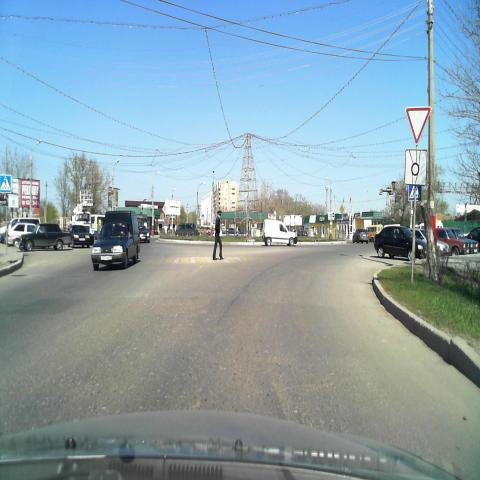8_13_1: (404, 148, 426, 185)
